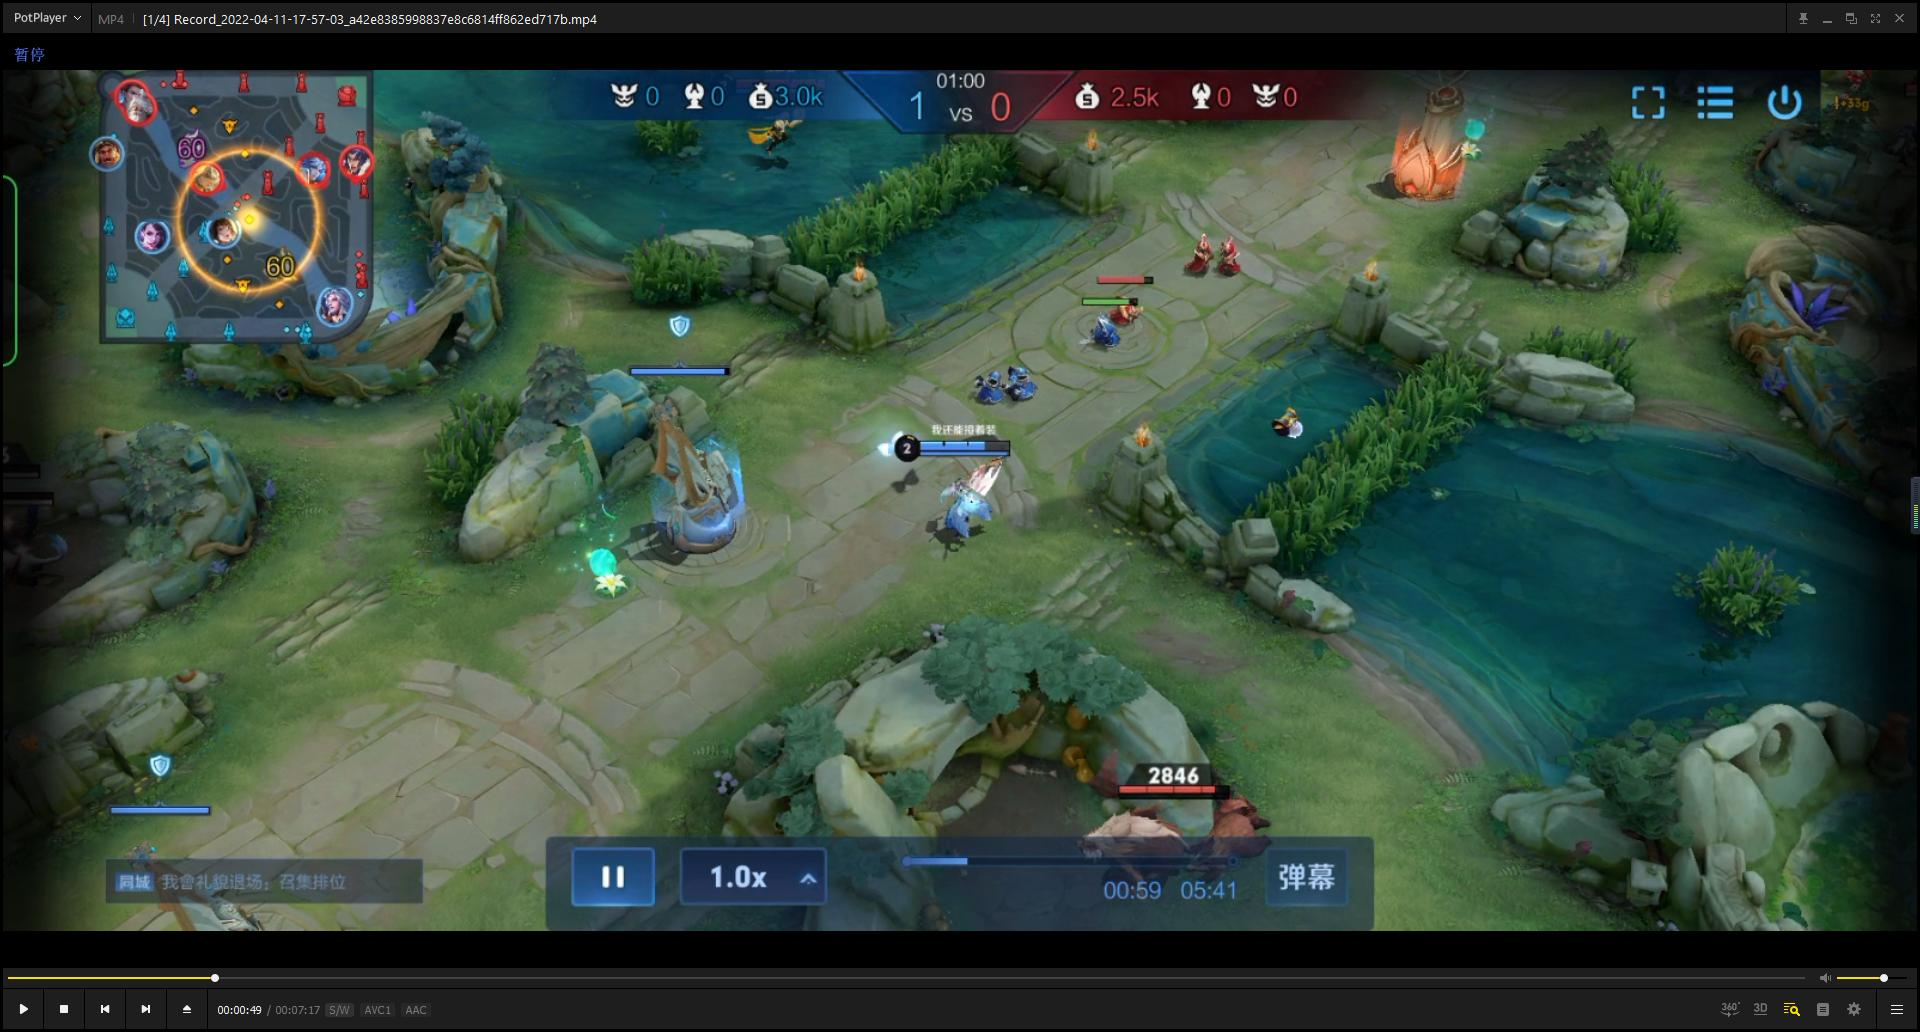Hero: (889, 458, 1027, 552), (733, 121, 853, 170)
Pig: (1055, 787, 1179, 907), (1174, 766, 1276, 881)
Solider: (1083, 258, 1173, 330), (1058, 295, 1136, 372), (1205, 216, 1277, 295), (1164, 214, 1217, 290), (954, 355, 1010, 416), (1001, 337, 1050, 405)
Spirit: (1255, 377, 1314, 449)
Tower: (610, 355, 773, 568), (97, 796, 310, 930), (1363, 71, 1504, 205)
